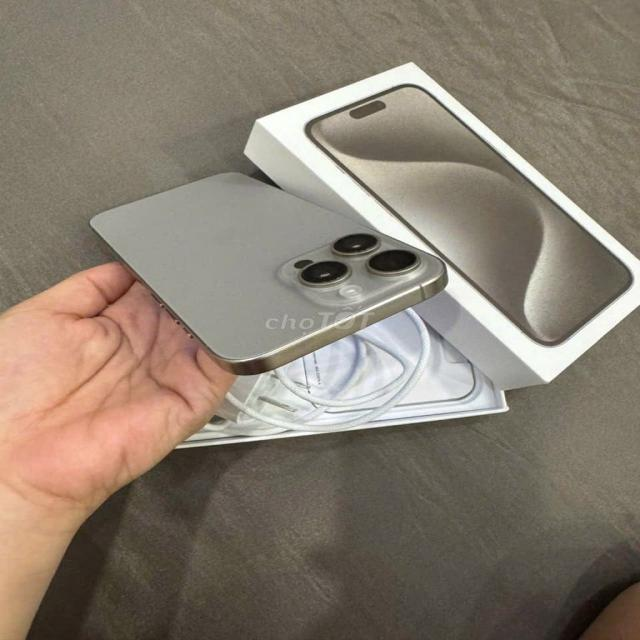gen_15: (80, 161, 448, 370)
